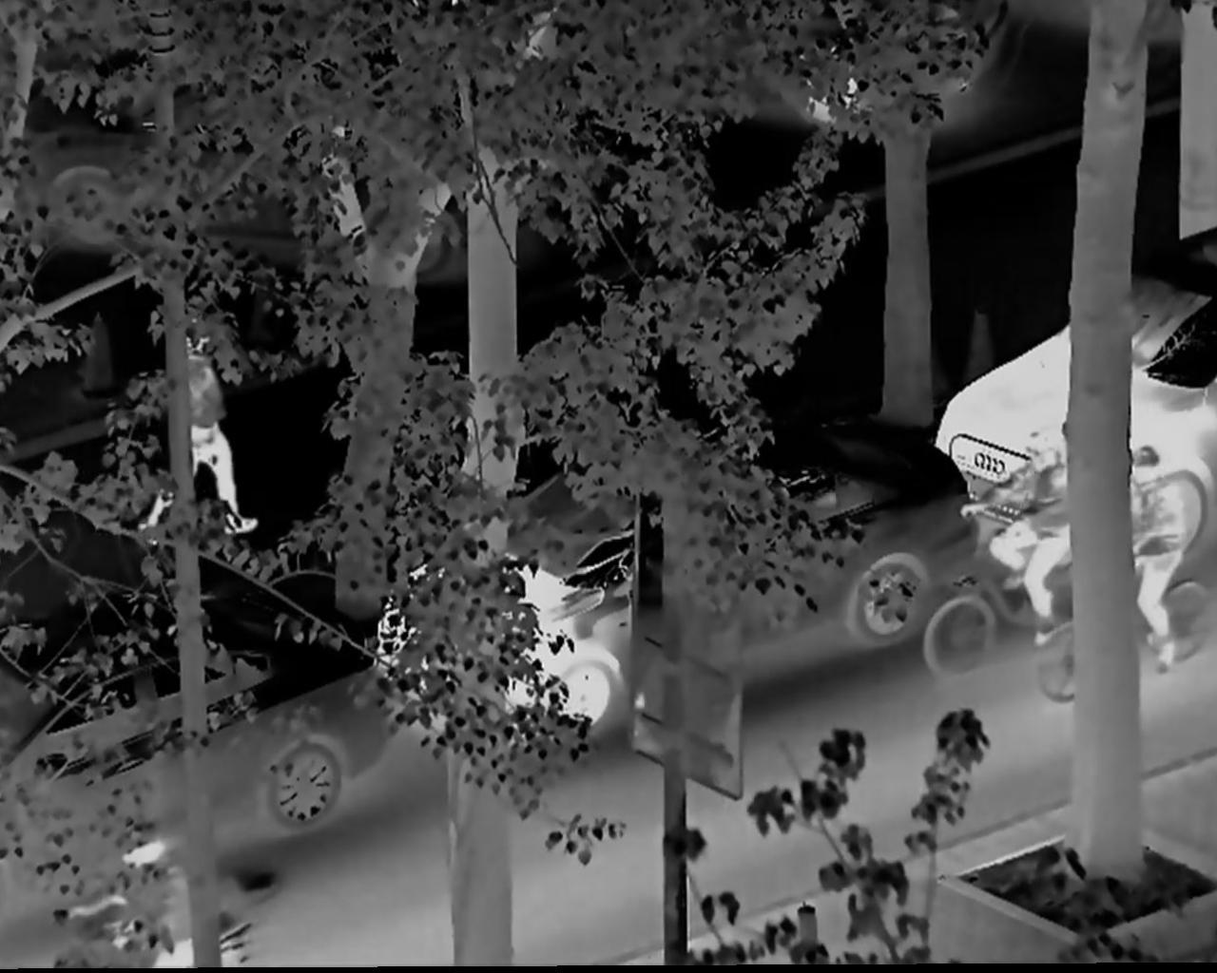person: (63, 823, 271, 971), (963, 419, 1068, 650), (163, 302, 261, 549), (1122, 443, 1200, 689)
